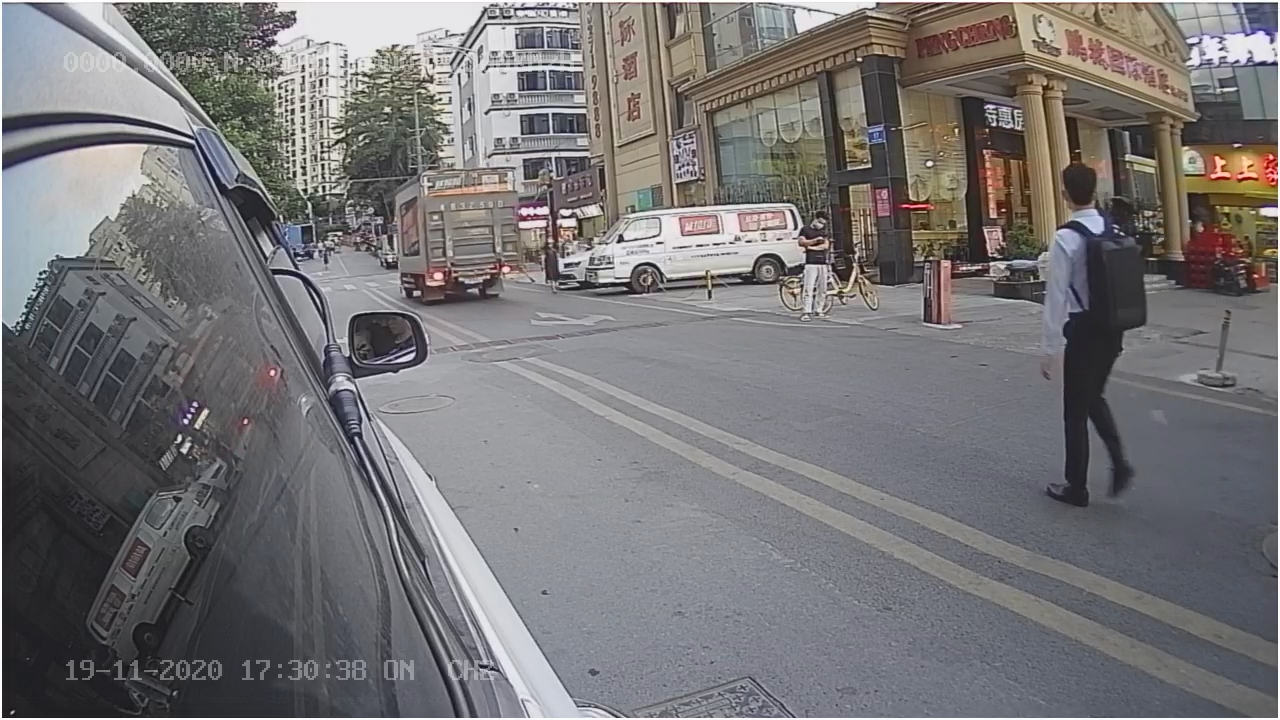person: (1036, 154, 1146, 497)
